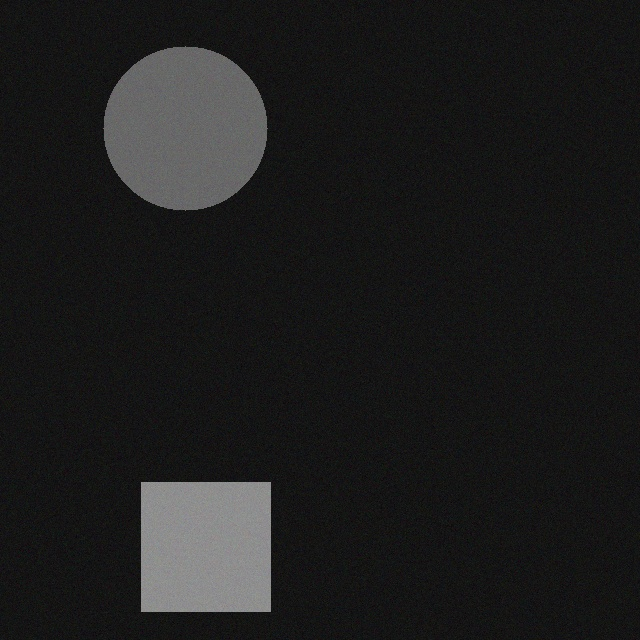circle: (97, 48, 261, 212)
square: (135, 484, 264, 613)
